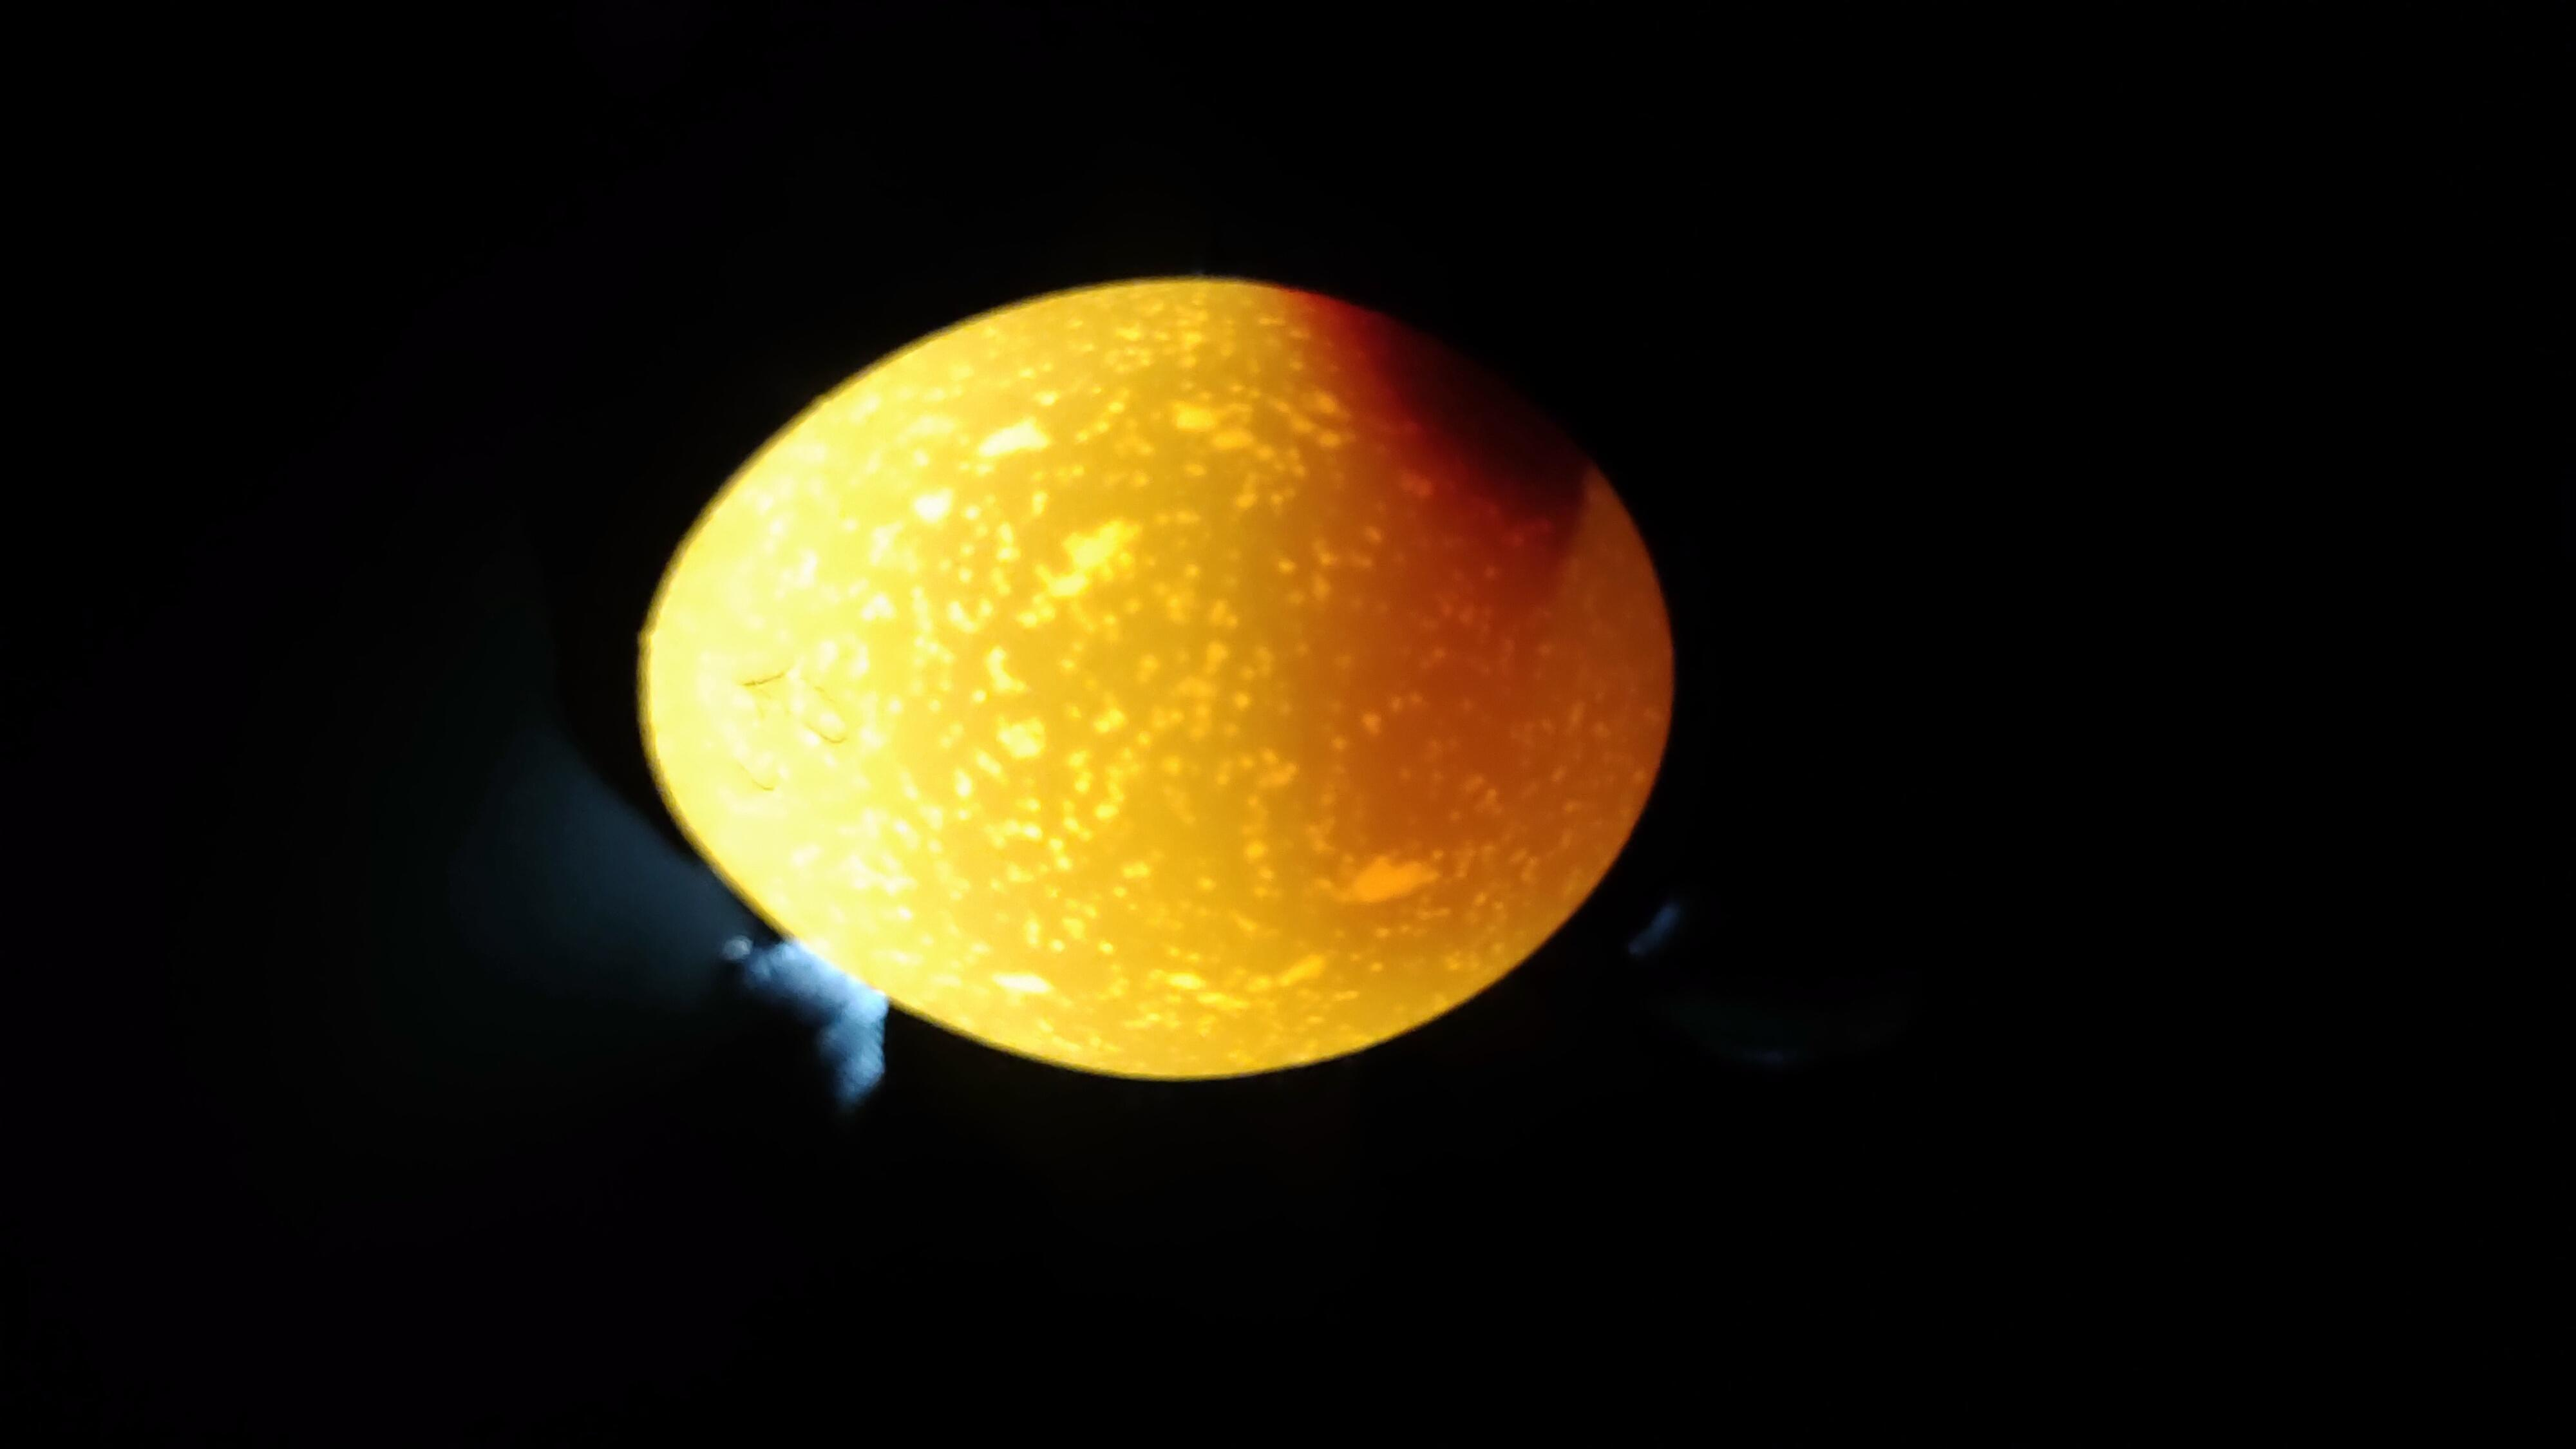AA - Premium: (579, 329, 2169, 966)
